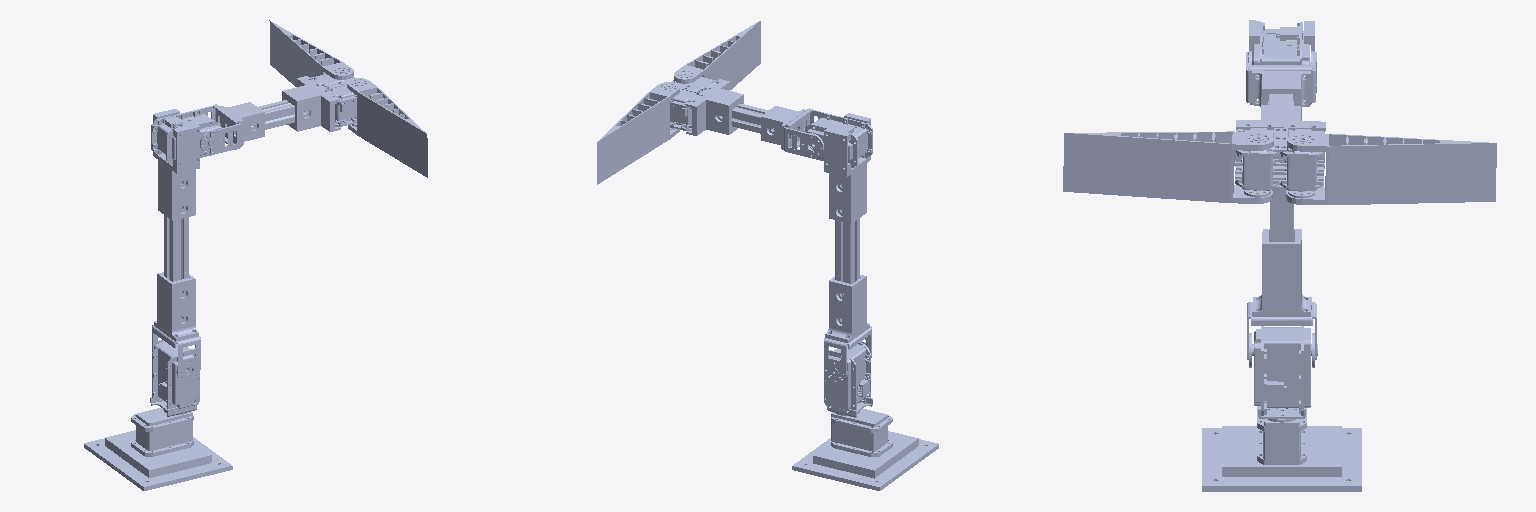
URDF robot description (arm):
<?xml version="1.0" encoding="utf-8"?>
<!-- This URDF was automatically created by SolidWorks to URDF Exporter! Originally created by [author] ([email redacted]) 
     Commit Version: 1.6.0-1-g15f4949  Build Version: 1.6.7594.29634
     For more information, please see http://wiki.ros.org/sw_urdf_exporter -->

<robot name="arm">
  <!-- <link name="plate_top_link_1" />
  <joint
    name="arm_base_joint"
    type="fixed">
    <origin
      xyz="0.11 0 0"
      rpy="0 0 0" />
    <parent
      link="plate_top_link_1" />
    <child
      link="arm_base_link" />
  </joint> -->

  <joint
    name="arm_link_3_arm_link_4"
    type="fixed">
    <origin
      xyz="0 -0.19852 0"
      rpy="3.1416 0 -1.5708" />
    <parent
      link="arm_link_3" />
    <child
      link="arm_link_4" />
    <axis
      xyz="0 0 0" />
    <limit
      lower="-3.14"
      upper="3.14"
      effort="0"
      velocity="0" />
  </joint>
  <link name="arm_link_4"></link>

  <link
    name="arm_base_link">
    <inertial>
      <origin
        xyz="-0.03212282198 -0.42012512735 0.42806654755"
        rpy="0 0 0" />
      <mass
        value="0.186163368805018" />
      <inertia
        ixx="0.00012911430163569"
        ixy="6.51866525966857E-10"
        ixz="4.04912675311546E-10"
        iyy="0.000270182092432814"
        iyz="3.35442702197418E-07"
        izz="0.000167882757488322" />
    </inertial>
    <visual>
      <origin
        xyz="0.03237 -0.0645 0.375"
        rpy="0 0 -1.5708" />
      <geometry>
        <mesh
          filename="package://skuba_edu_description/meshes/arm/arm_base_link.STL" />
      </geometry>
      <material
        name="">
        <color
          rgba="0.792156862745098 0.819607843137255 0.933333333333333 1" />
      </material>
    </visual>
    <collision>
      <origin
        xyz="0.03237 -0.0645 0.375"
        rpy="0 0 0" />
      <geometry>
        <mesh
          filename="package://skuba_edu_description/meshes/arm/arm_base_link.STL" />
      </geometry>
    </collision>
  </link>
  <link
    name="arm_link_1">
    <inertial>
      <origin
        xyz="6.15184211939929E-05 -0.0325958294491363 -0.000169492133248482"
        rpy="0 0 0" />
      <mass
        value="0.0863559618404855" />
      <inertia
        ixx="3.18738615082819E-05"
        ixy="-1.73028253968493E-07"
        ixz="-2.12738742921425E-09"
        iyy="2.21589667428724E-05"
        iyz="9.73665351283212E-09"
        izz="3.96350749701624E-05" />
    </inertial>
    <visual>
      <origin
        xyz="0 0 0.073"
        rpy="1.5708 0 1.5708" />
      <geometry>
        <mesh
          filename="package://skuba_edu_description/meshes/arm/arm_link_1.STL" />
      </geometry>
      <material
        name="">
        <color
          rgba="0.792156862745098 0.819607843137255 0.933333333333333 1" />
      </material>
    </visual>
    <collision>
      <origin
        xyz="0 0 0"
        rpy="0 0 0" />
      <geometry>
        <mesh
          filename="package://skuba_edu_description/meshes/arm/arm_link_1.STL" />
      </geometry>
    </collision>
  </link>
  <joint
    name="arm_base_link_link_1"
    type="revolute">
    <origin
      xyz="0 0 0.055"
      rpy="0 0 0" />
    <parent
      link="arm_base_link" />
    <child
      link="arm_link_1" />
    <axis
      xyz="0 0 1" />
    <limit
      lower="-3.14"
      upper="3.14"
      effort="0"
      velocity="0" />
  </joint>
  <link
    name="arm_link_2">
    <inertial>
      <origin
        xyz="0.000203280213561932 -0.193086411594665 0.00531640363050518"
        rpy="0 0 0" />
      <mass
        value="0.203789418700687" />
      <inertia
        ixx="0.000190742524201691"
        ixy="3.60636681187183E-09"
        ixz="-1.81324565296997E-07"
        iyy="6.95147446909765E-05"
        iyz="-2.5389805639446E-09"
        izz="0.000191867605418963" />
    </inertial>
    <visual>
      <origin
        xyz="0 0 0"
        rpy="0 0 0" />
      <geometry>
        <mesh
          filename="package://skuba_edu_description/meshes/arm/arm_link_2.STL" />
      </geometry>
      <material
        name="">
        <color
          rgba="0.792156862745098 0.819607843137255 0.933333333333333 1" />
      </material>
    </visual>
    <collision>
      <origin
        xyz="0 0 0"
        rpy="0 0 0" />
      <geometry>
        <mesh
          filename="package://skuba_edu_description/meshes/arm/arm_link_2.STL" />
      </geometry>
    </collision>
  </link>
  <joint
    name="arm_link_1_arm_link_2"
    type="revolute">
    <origin
      xyz="0 0 0.058"
      rpy="-1.5708 0 -1.5708" />
    <parent
      link="arm_link_1" />
    <child
      link="arm_link_2" />
    <axis
      xyz="-1 0 0" />
    <limit
      lower="-1.97728351"
      upper="1.96"
      effort="0"
      velocity="0" />
  </joint>
  <link
    name="arm_link_3">
    <inertial>
      <origin
        xyz="0.000251076986040322 -0.134949597462582 7.19713697072465E-05"
        rpy="0 0 0" />
      <mass
        value="0.172390710019942" />
      <inertia
        ixx="5.70915688480554E-05"
        ixy="8.63831723211208E-09"
        ixz="2.70858587460573E-08"
        iyy="4.10041759288329E-05"
        iyz="3.6456768903629E-07"
        izz="6.06950558357656E-05" />
    </inertial>
    <visual>
      <origin
        xyz="0 0 0"
        rpy="0 0 0" />
      <geometry>
        <mesh
          filename="package://skuba_edu_description/meshes/arm/arm_link_3.STL" />
      </geometry>
      <material
        name="">
        <color
          rgba="0.792156862745098 0.819607843137255 0.933333333333333 1" />
      </material>
    </visual>
    <collision>
      <origin
        xyz="0 0 0"
        rpy="0 0 0" />
      <geometry>
        <mesh
          filename="package://skuba_edu_description/meshes/arm/arm_link_3.STL" />
      </geometry>
    </collision>
  </link>
  <joint
    name="arm_link_2_arm_link_3"
    type="revolute">
    <origin
      xyz="0.0001861 -0.26323 0.029054"
      rpy="-1.5637 0.006405 0" />
    <parent
      link="arm_link_2" />
    <child
      link="arm_link_3" />
    <axis
      xyz="1 0 0" />
    <limit
      lower="-1.495"
      upper="1.7150"
      effort="0"
      velocity="0" />
  </joint>

  <link
    name="gripper_left">
    <inertial>
      <origin
        xyz="-1.36557432028894E-14 0.00371354964107491 -0.0658562479654084"
        rpy="0 0 0" />
      <mass
        value="0.0399134428025758" />
      <inertia
        ixx="8.89145445270827E-05"
        ixy="8.00975530747348E-20"
        ixz="9.1972557948546E-20"
        iyy="7.9519655277471E-05"
        iyz="-3.2685247036163E-20"
        izz="1.23849345958696E-05" />
    </inertial>
    <visual>
      <origin
        xyz="0 0 0"
        rpy="0 0 0" />
      <geometry>
        <mesh
          filename="package://skuba_edu_description/meshes/arm/gripper_left.STL" />
      </geometry>
      <material
        name="">
        <color
          rgba="0.792156862745098 0.819607843137255 0.933333333333333 1" />
      </material>
    </visual>
    <collision>
      <origin
        xyz="0 0 0"
        rpy="0 0 0" />
      <geometry>
        <mesh
          filename="package://skuba_edu_description/meshes/arm/gripper_left.STL" />
      </geometry>
    </collision>
  </link>
  <joint
    name="arm_link_3_gripper_left"
    type="revolute">
    <origin
      xyz="-0.017564 -0.18602 0.00033973"
      rpy="1.5901 0.00014201 1.5635" />
    <parent
      link="arm_link_3" />
    <child
      link="gripper_left" />
    <axis
      xyz="0 -1 0" />
    <limit
      lower="-3.14"
      upper="3.14"
      effort="0"
      velocity="0" />
  </joint>
  <link
    name="gripper_right">
    <inertial>
      <origin
        xyz="-1.72917236085368E-14 -0.00371362963156591 -0.0658562479655016"
        rpy="0 0 0" />
      <mass
        value="0.0399134428025757" />
      <inertia
        ixx="8.89145445270828E-05"
        ixy="-4.2881042954749E-21"
        ixz="2.17052192733914E-19"
        iyy="7.95196552774711E-05"
        iyz="5.80409888361614E-20"
        izz="1.23849345958696E-05" />
    </inertial>
    <visual>
      <origin
        xyz="0 0 0"
        rpy="0 0 0" />
      <geometry>
        <mesh
          filename="package://skuba_edu_description/meshes/arm/gripper_right.STL" />
      </geometry>
      <material
        name="">
        <color
          rgba="0.792156862745098 0.819607843137255 0.933333333333333 1" />
      </material>
    </visual>
    <collision>
      <origin
        xyz="0 0 0"
        rpy="0 0 0" />
      <geometry>
        <mesh
          filename="package://skuba_edu_description/meshes/arm/gripper_right.STL" />
      </geometry>
    </collision>
  </link>
  <joint
    name="arm_link_3_gripper_right"
    type="revolute">
    <origin
      xyz="0.01803 -0.18602 -0.00034876"
      rpy="-1.5515 -0.00046036 1.5946" />
    <parent
      link="arm_link_3" />
    <child
      link="gripper_right" />
    <axis
      xyz="0 1 0" />
    <limit
      lower="-3.14"
      upper="3.14"
      effort="0"
      velocity="0" />
  </joint>
</robot>

--- Facts derived from the render (not from the file) ---
Views: 3 orthographic renders of the robot side by side, from view 1: azimuth 30°, elevation 25°; view 2: azimuth 150°, elevation 25°; view 3: azimuth 270°, elevation 25°.
Robot: arm — 7 links, 6 joints (5 revolute, 1 fixed); root link arm_base_link; default pose: every joint at zero.
Visible links, largest first — view 1: arm_link_2, arm_base_link, arm_link_3, gripper_right, gripper_left, arm_link_1; view 2: arm_link_2, arm_base_link, arm_link_3, gripper_left, gripper_right, arm_link_1; view 3: gripper_left, gripper_right, arm_base_link, arm_link_3, arm_link_2, arm_link_1.
Link boxes in pixels (bbox=[...]): arm_link_2: bbox=[151, 109, 221, 382]; arm_base_link: bbox=[84, 408, 232, 490]; arm_link_3: bbox=[197, 69, 362, 154]; gripper_right: bbox=[347, 78, 427, 177]; gripper_left: bbox=[269, 20, 353, 86]; arm_link_1: bbox=[150, 342, 199, 416]; arm_link_2: bbox=[805, 113, 872, 382]; arm_base_link: bbox=[792, 409, 938, 490]; arm_link_3: bbox=[664, 72, 824, 158]; gripper_left: bbox=[597, 82, 679, 184]; gripper_right: bbox=[674, 21, 760, 89]; arm_link_1: bbox=[824, 344, 872, 417]; gripper_left: bbox=[1286, 133, 1496, 204]; gripper_right: bbox=[1063, 131, 1273, 203]; arm_base_link: bbox=[1202, 406, 1361, 491]; arm_link_3: bbox=[1235, 51, 1325, 191]; arm_link_2: bbox=[1247, 20, 1317, 367]; arm_link_1: bbox=[1254, 326, 1310, 418].
Bounding box of the posed robot: 0.3055 × 0.3485 × 0.4006 m (x, y, z).
6 mesh visuals loaded from 6 distinct referenced files (6 binary STL).
